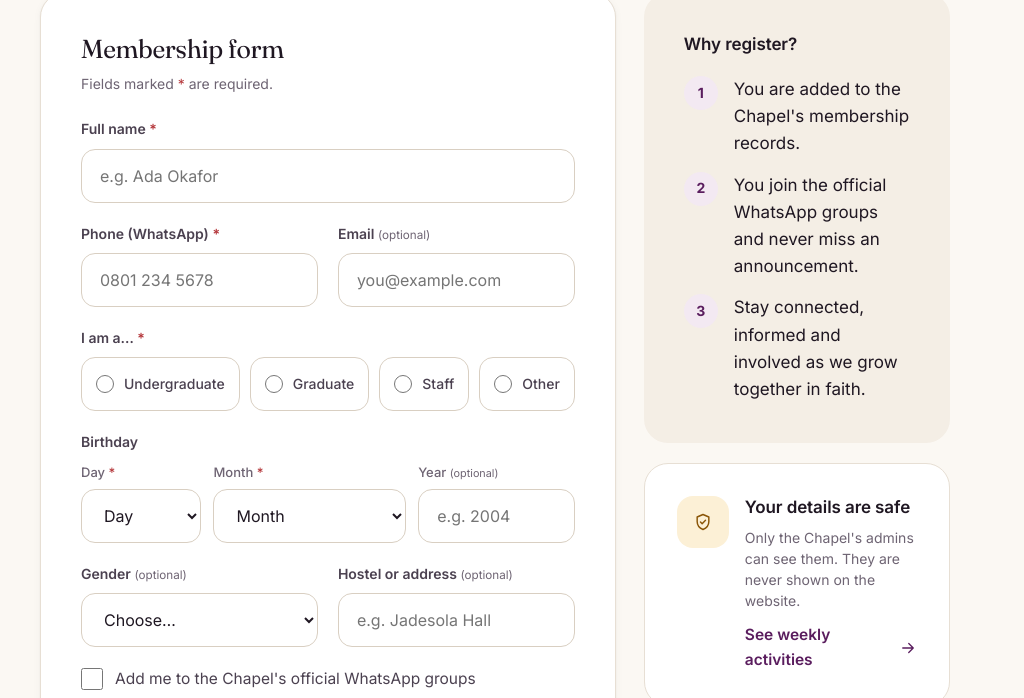
Membership page › shows department and level only for the right member type
(page scrolled)
Expected: the field labelled "department" is not shown
Expected: the field labelled "level" is not shown
Click the radio button labelled "Undergraduate".
click(105, 384)  # box [96,376,114,394]
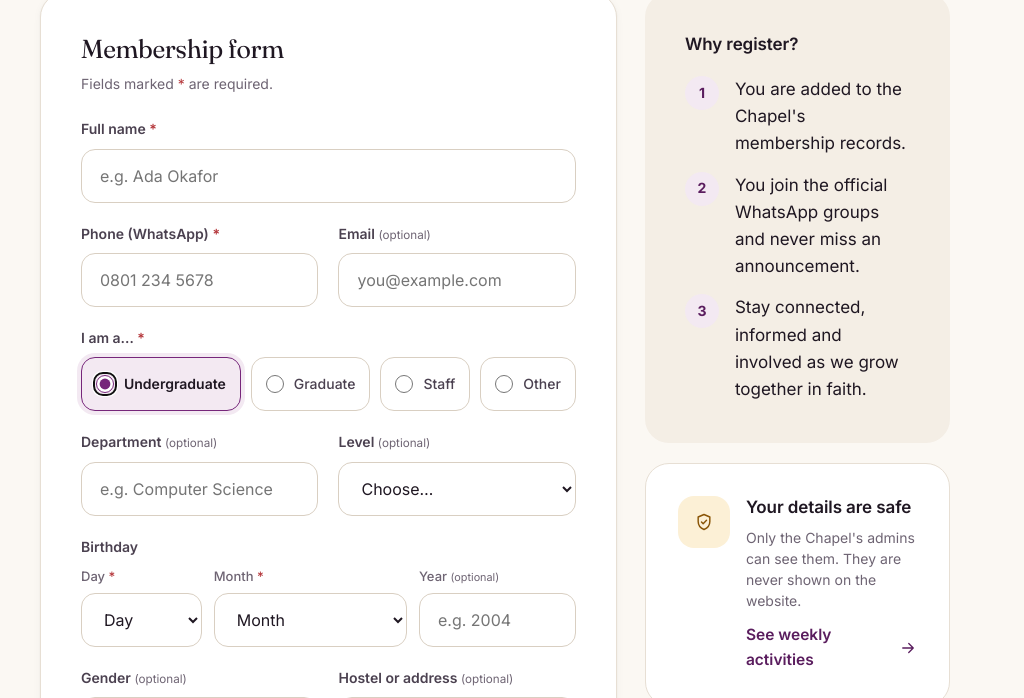
Result: the field labelled "Department (optional)" is shown at [81,462,318,516]
Result: the dropdown labelled "Level (optional)" is shown at [338,462,576,516]
Click the radio button labelled "Graduate".
click(275, 384)  # box [266,376,284,394]
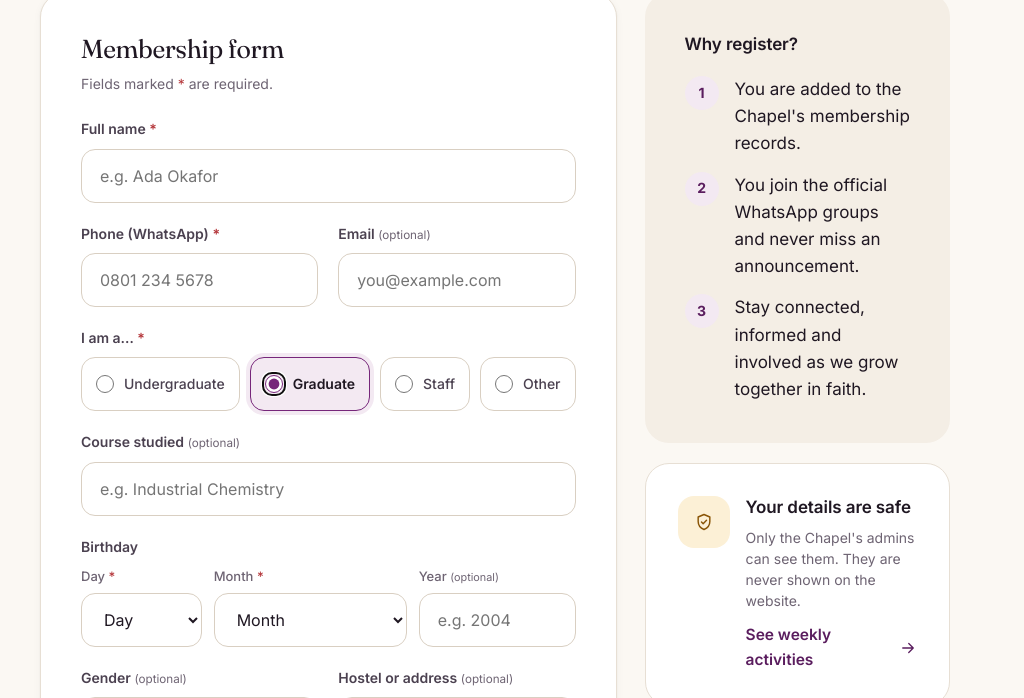
Result: the field labelled "Course studied (optional)" is shown at [81,462,576,516]
Result: the label labelled "Level" is gone
Click the radio button labelled "Staff".
click(404, 384)  # box [395,376,413,394]
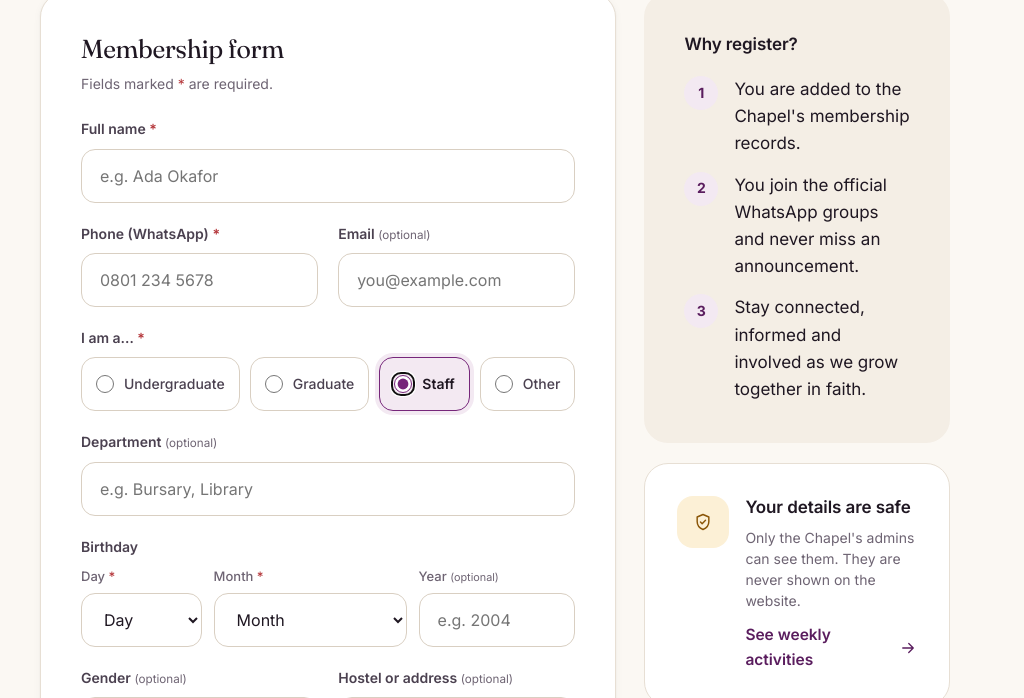
Expected: the label labelled "Level" is not shown
Result: the field labelled "Department (optional)" is shown at [81,462,575,516]
Click the radio button labelled "Other".
click(504, 384)  # box [495,376,513,394]
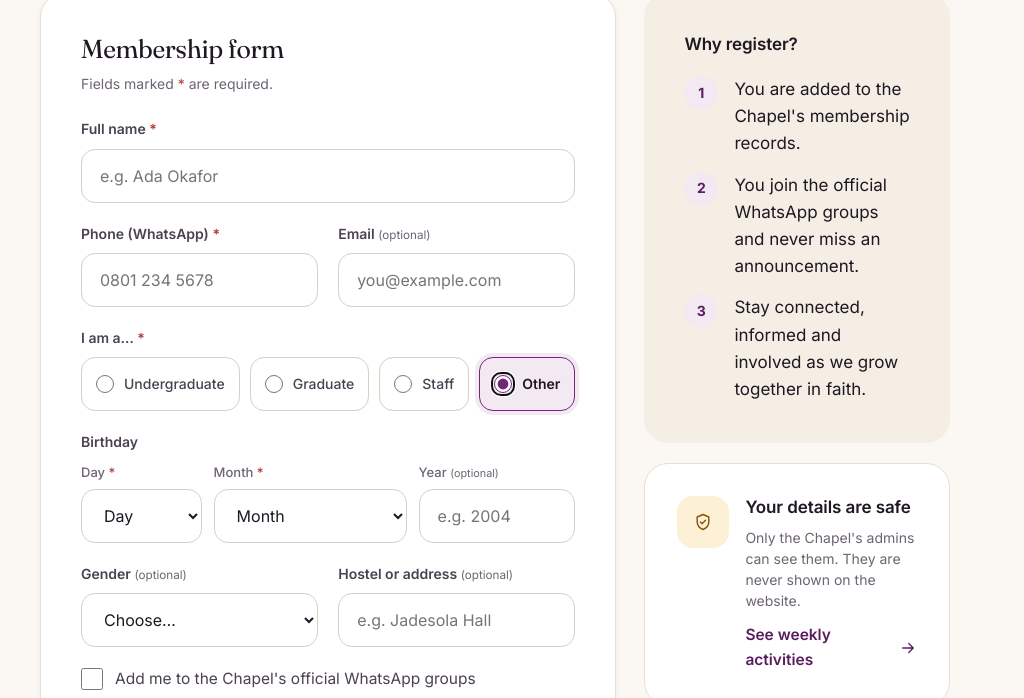
Expected: the label labelled "Course studied" is not shown
Result: the label labelled "Department" is gone
